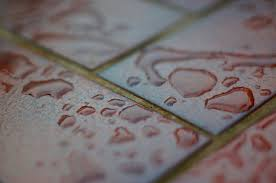Wet-floor: (6, 39, 270, 163)
